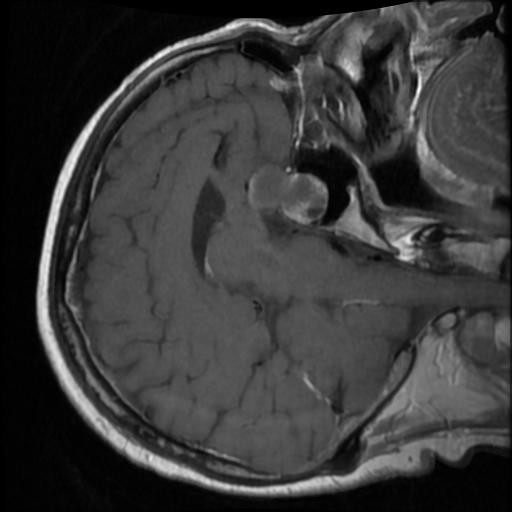pituitary tumour: (247, 163, 328, 226)
